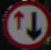Two way: (7, 5, 50, 46)
